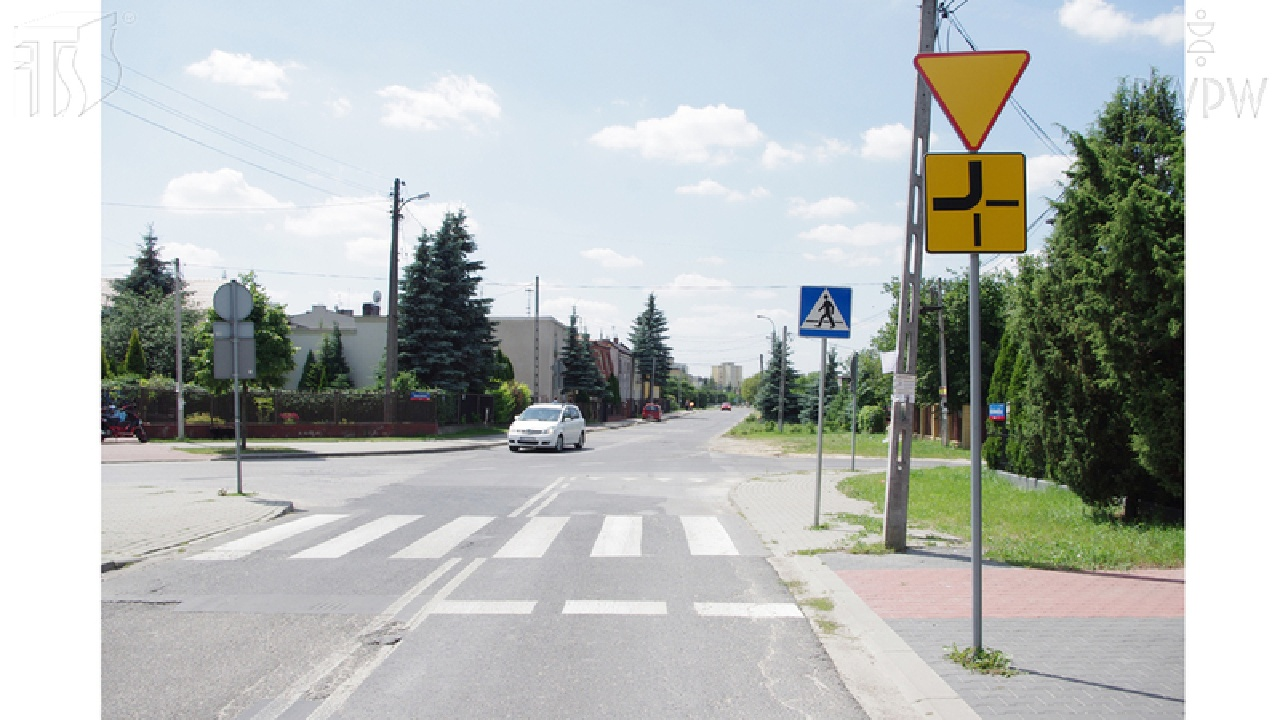A7: (913, 49, 1031, 150)
D6: (800, 284, 851, 339)
